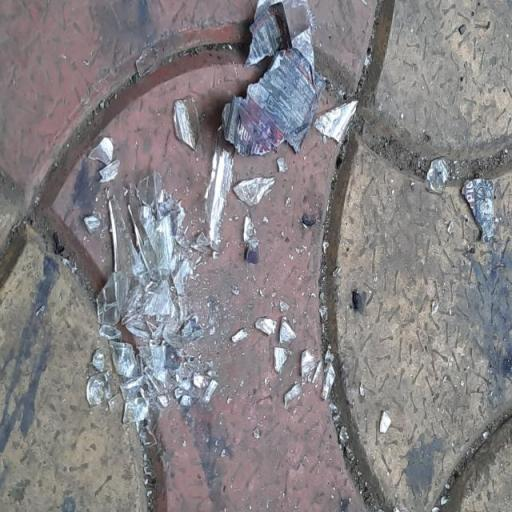glass: (59, 140, 223, 450), (220, 285, 341, 449)
